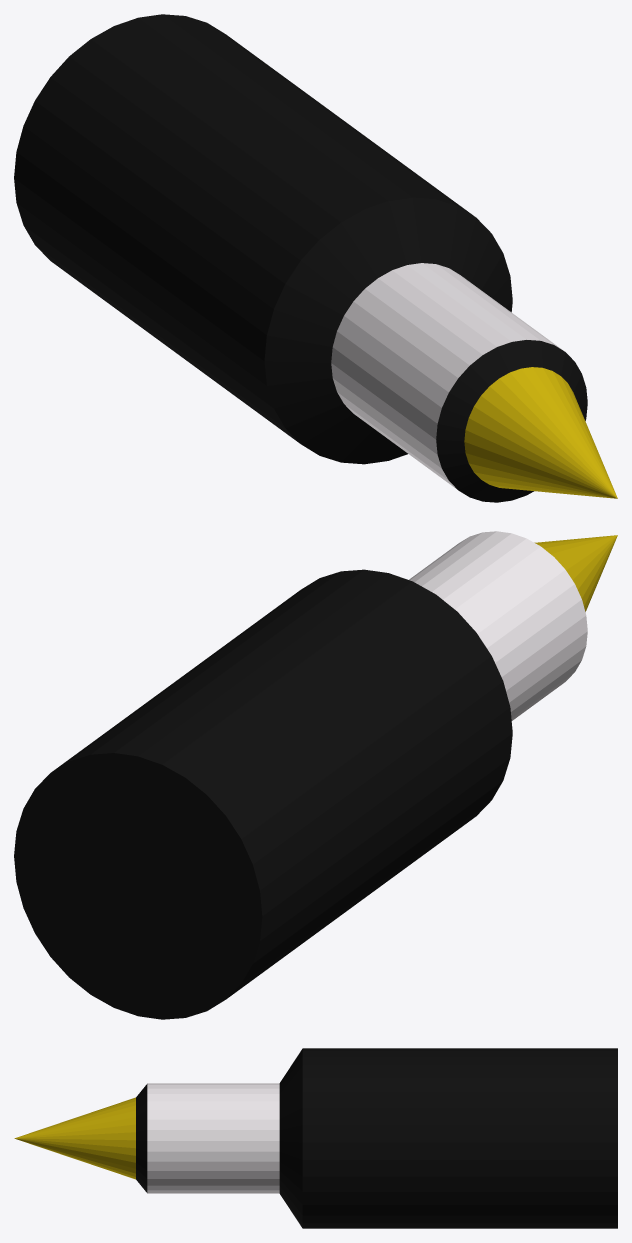
The model's file is bullet_2_bw.fbx.
3 views of the same model, one above another, from view 1: azimuth 30°, elevation 25°; view 2: azimuth 150°, elevation 25°; view 3: azimuth 270°, elevation 25° (orthographic). The views are drawn at different scales.
Visible parts, largest first — view 1: Bullet2_BW; view 2: Bullet2_BW; view 3: Bullet2_BW.
Boxes of the visible parts, bbox=[...] form: Bullet2_BW: bbox=[14, 14, 617, 502]; Bullet2_BW: bbox=[14, 531, 617, 1019]; Bullet2_BW: bbox=[14, 1048, 617, 1228].
Size of the model in its own units: 14.51 by 14.51 by 48.55.
